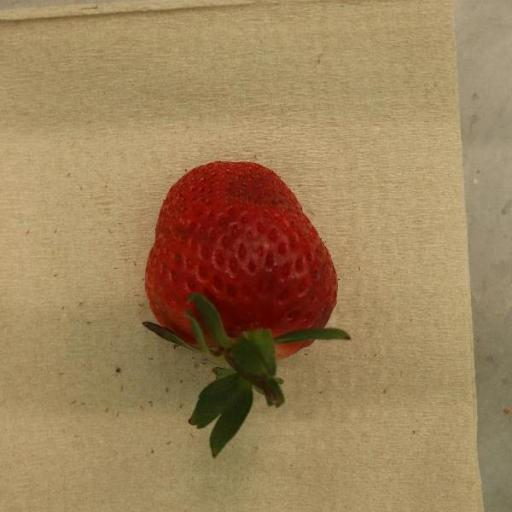Strawberry: (144, 162, 352, 460)
